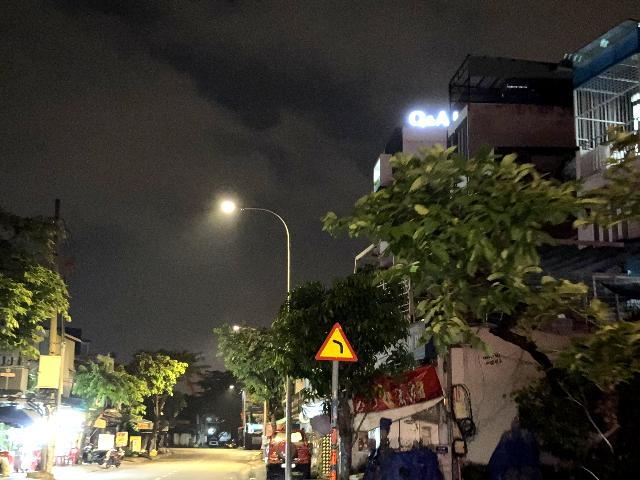cho-ngoat-nguy-hiem-ben-trai: (315, 322, 358, 362)
